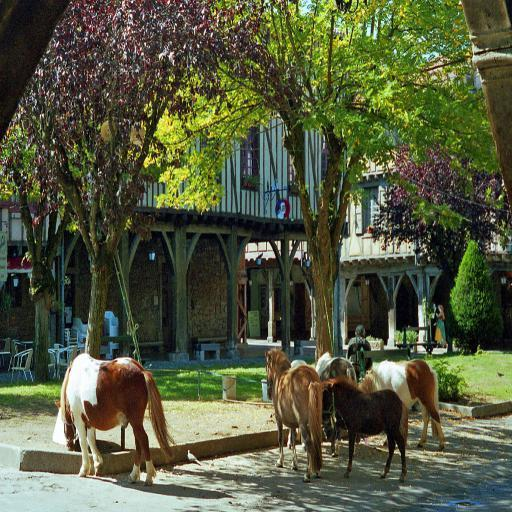horse: (265, 345, 447, 484), (53, 352, 179, 486)
